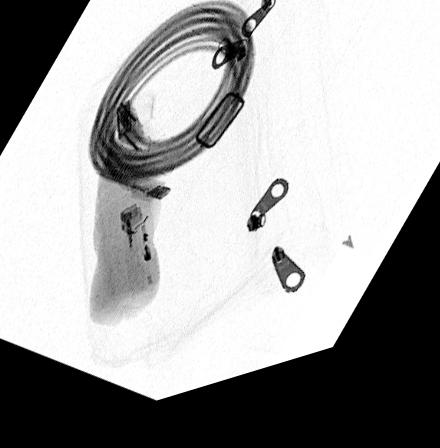Lighter: (118, 210, 156, 303)
